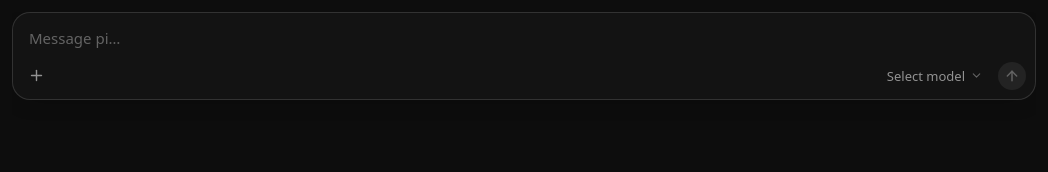
Scenario: Composer › sends a prompt when idle and clears the text
The width and height of the screenshot is (1048, 172).
Expected: the button named "Send" is disabled, top-left (997, 61), bottom-right (1027, 91)
Type "hello pi" into the text box labelled "Message" at (524, 34), box top-left (13, 13), bottom-right (1035, 55)
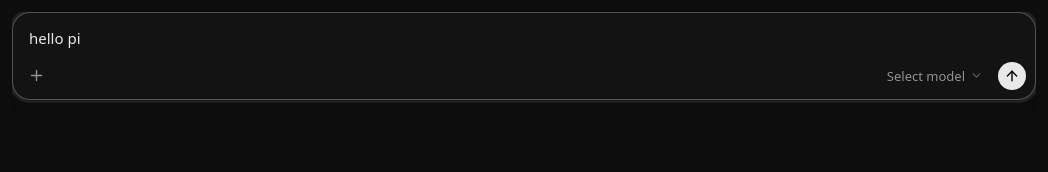
Click the button named "Send" at (1012, 76), box top-left (997, 61), bottom-right (1027, 91)
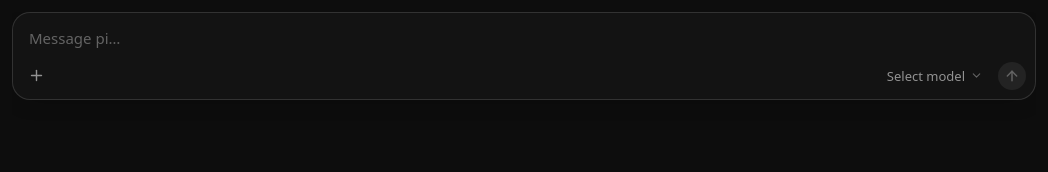
Expected: the text box labelled "Message" is empty, top-left (13, 13), bottom-right (1035, 55)
